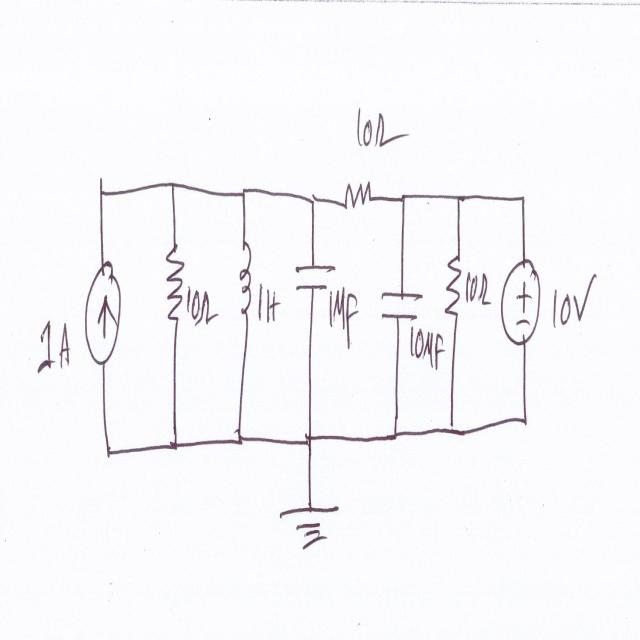capacitor: (380, 281, 426, 327), (292, 256, 336, 296)
current_source: (83, 250, 125, 378)
ground: (275, 500, 343, 552)
inductor: (233, 234, 255, 324)
resistor: (161, 234, 186, 330), (442, 246, 467, 328), (339, 161, 373, 219)
voltage_source: (499, 252, 541, 351)
